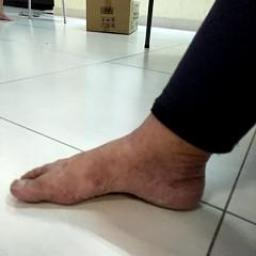Medial View -Right Foot-: (2, 91, 229, 227)
